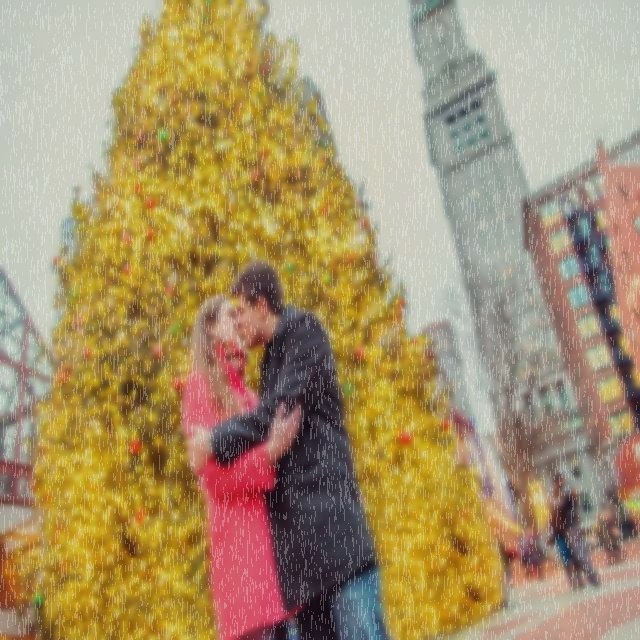pessoa: (182, 258, 390, 639), (181, 291, 305, 639), (552, 469, 602, 595), (548, 487, 585, 591), (493, 530, 554, 589), (590, 511, 622, 567), (606, 512, 628, 564), (526, 526, 545, 583)
